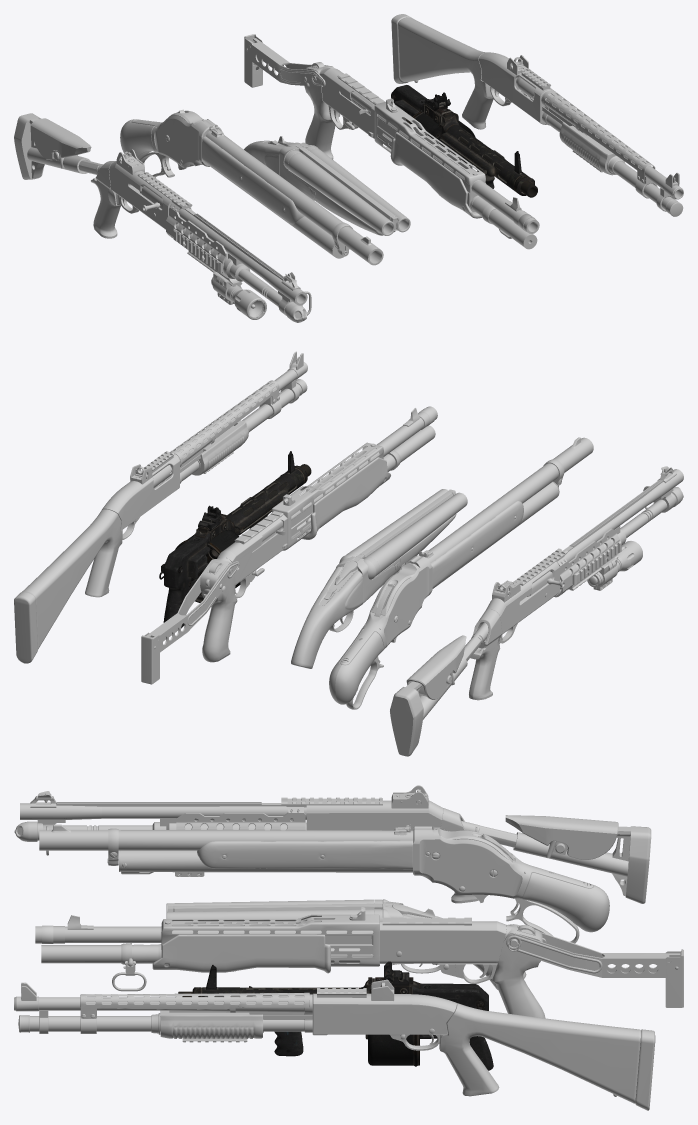
Rendered from Shotgun.fbx.
3 views of the same model, one above another, from view 1: azimuth 30°, elevation 25°; view 2: azimuth 150°, elevation 25°; view 3: azimuth 270°, elevation 25° (orthographic). The views are drawn at different scales.
Parts seen in each view (by area): view 1: other\W1200.smd, other\SPAS12.smd, other\Model1887.smd, other\M4Benelli.smd, other\Ranger.smd, other\Striker.smd, other\stock.smd, other\stock.smd.001, other\light.smd, other\sight_stock.smd, other\sight_stock.smd.004, other\mag.smd.001; view 2: other\W1200.smd, other\Model1887.smd, other\SPAS12.smd, other\M4Benelli.smd, other\Ranger.smd, other\Striker.smd, other\stock.smd, other\stock.smd.001, other\light.smd, other\mag.smd.001, other\sight_stock.smd.004, other\sight_stock.smd; view 3: other\W1200.smd, other\Model1887.smd, other\SPAS12.smd, other\M4Benelli.smd, other\stock.smd, other\stock.smd.001, other\Ranger.smd, other\Striker.smd, other\mag.smd.001, other\sight_stock.smd, other\sight_stock.smd.004, other\grip.smd (+1 smaller).
Part boxes in pixels (x1,y1,x2,y2): other\W1200.smd: [391, 14, 683, 216]; other\SPAS12.smd: [304, 62, 539, 249]; other\Model1887.smd: [120, 109, 383, 265]; other\M4Benelli.smd: [91, 161, 307, 322]; other\Ranger.smd: [244, 136, 410, 235]; other\Striker.smd: [391, 85, 537, 197]; other\stock.smd: [14, 113, 103, 179]; other\stock.smd.001: [244, 34, 334, 87]; other\light.smd: [211, 272, 266, 319]; other\sight_stock.smd: [116, 149, 300, 290]; other\sight_stock.smd.004: [507, 55, 682, 199]; other\mag.smd.001: [407, 111, 475, 165]; other\W1200.smd: [14, 362, 307, 663]; other\Model1887.smd: [329, 437, 593, 709]; other\SPAS12.smd: [200, 406, 437, 662]; other\M4Benelli.smd: [469, 469, 683, 700]; other\Ranger.smd: [291, 489, 467, 668]; other\Striker.smd: [163, 464, 311, 628]; other\stock.smd: [390, 622, 488, 756]; other\stock.smd.001: [141, 559, 240, 684]; other\light.smd: [587, 541, 642, 590]; other\mag.smd.001: [175, 529, 240, 602]; other\sight_stock.smd.004: [130, 351, 307, 484]; other\sight_stock.smd: [492, 466, 676, 602]; other\W1200.smd: [14, 992, 655, 1110]; other\Model1887.smd: [39, 824, 609, 943]; other\SPAS12.smd: [35, 914, 546, 1018]; other\M4Benelli.smd: [14, 797, 478, 903]; other\stock.smd: [461, 815, 651, 903]; other\stock.smd.001: [504, 924, 683, 1007]; other\Ranger.smd: [166, 899, 526, 989]; other\Striker.smd: [178, 977, 493, 1070]; other\mag.smd.001: [368, 1034, 419, 1066]; other\sight_stock.smd: [30, 785, 428, 808]; other\sight_stock.smd.004: [15, 979, 394, 1011]; other\grip.smd: [274, 1031, 303, 1056].
Size of the model in its own units: 636 by 168 by 789.
